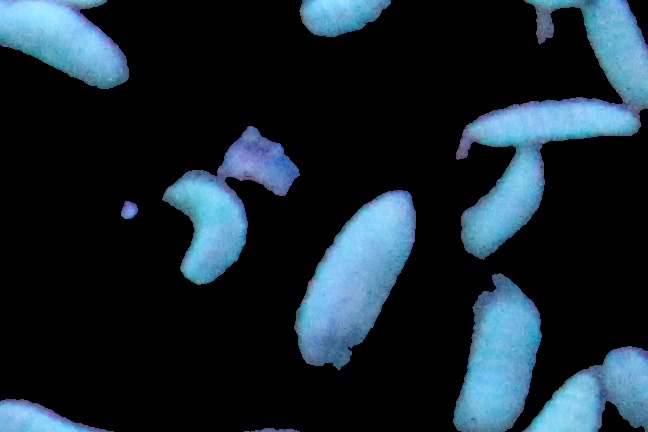larvae: (289, 195, 416, 374), (453, 279, 543, 432), (1, 5, 130, 100), (463, 148, 558, 253), (165, 171, 252, 283), (568, 2, 648, 110), (466, 99, 638, 145), (539, 351, 603, 432), (292, 1, 401, 47)
